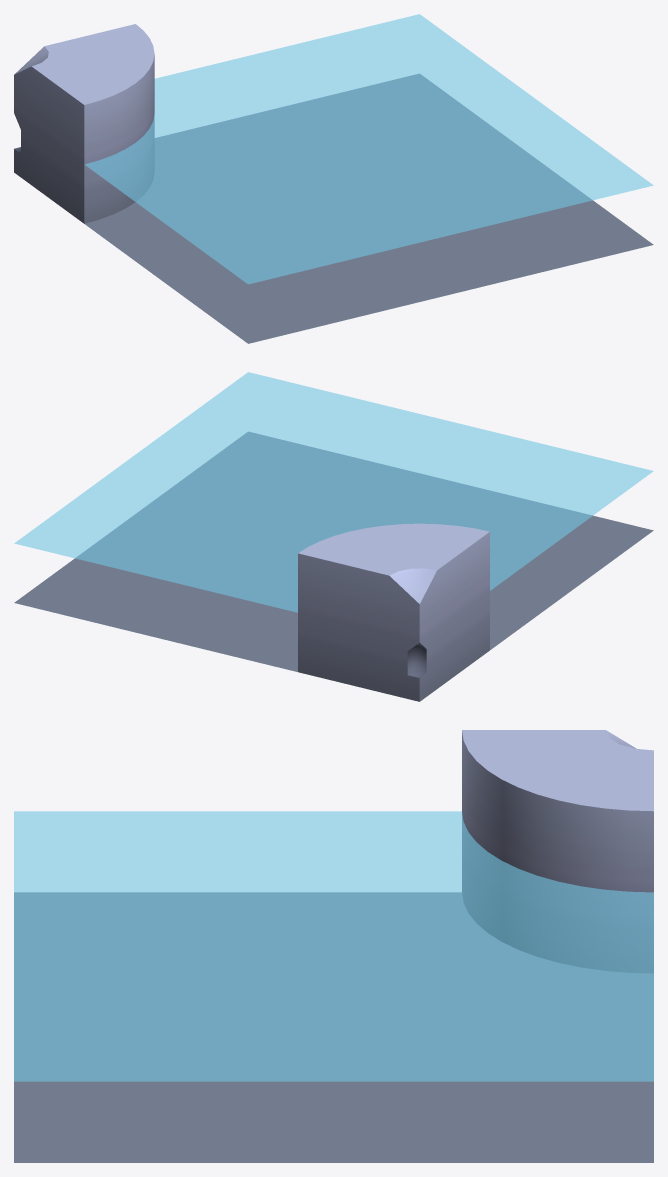
Rendered from fountain-corner-inner.glb.
3 renders of one model, top to bottom at view 1: azimuth 30°, elevation 25°; view 2: azimuth 150°, elevation 25°; view 3: azimuth 270°, elevation 25°, orthographic. The views are drawn at different scales.
Parts seen in each view (by area): view 1: fountain-corner-inner, (%ignore); view 2: fountain-corner-inner, (%ignore); view 3: fountain-corner-inner, (%ignore).
Part boxes in pixels (left/top/right/bottom): fountain-corner-inner: left=14, top=24, right=653, bottom=343; (%ignore): left=84, top=14, right=653, bottom=284; fountain-corner-inner: left=14, top=432, right=653, bottom=701; (%ignore): left=14, top=372, right=653, bottom=612; fountain-corner-inner: left=14, top=730, right=653, bottom=1162; (%ignore): left=14, top=811, right=653, bottom=1081.
Size of the model in its own units: 1 by 0.2799 by 1.
2 materials, 1 textured.
